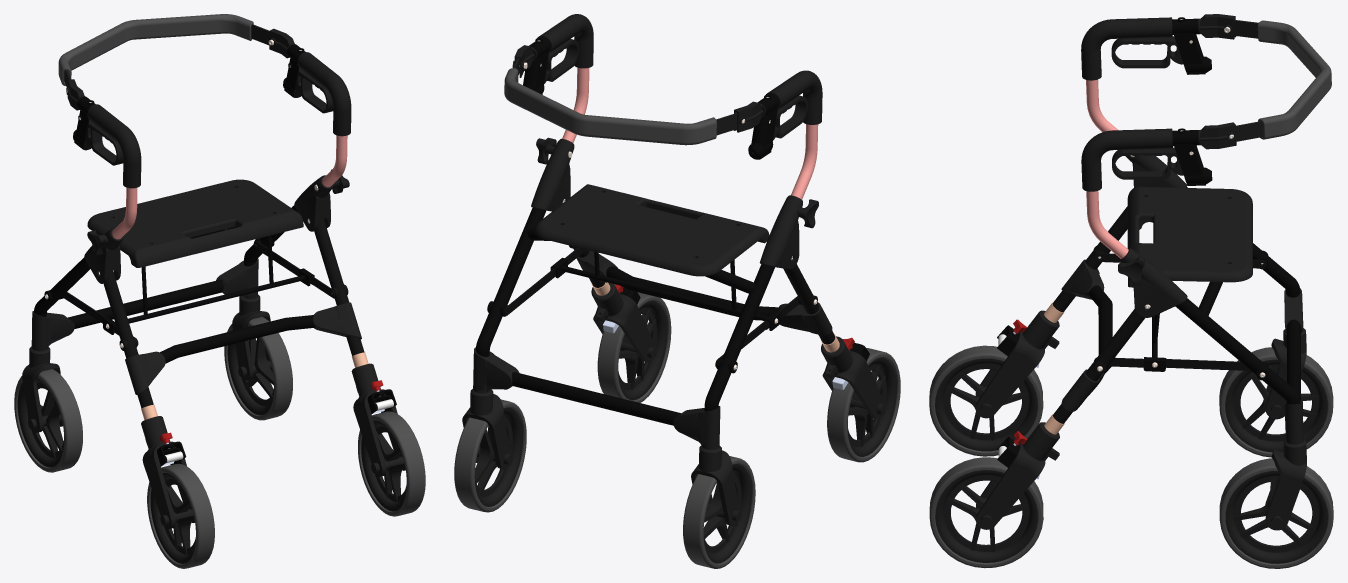
File: Evolution Piper Tall Walker Assembly.obj
3 renders of one model, left to right at view 1: azimuth 30°, elevation 25°; view 2: azimuth 150°, elevation 25°; view 3: azimuth 270°, elevation 25°, orthographic. The views are drawn at different scales.
Visible parts, largest first — view 1: Walker_Seat-1-solid1, Walker_Handlebar-1-solid6, Walker_Double_3_Star_Spoke_Onshape-2-solid1, Walker_Double_3_Star_Spoke_Onshape-1-solid1, Walker_Double_3_Star_Spoke_Onshape-4-solid1, Walker_Double_3_Star_Spoke_Onshape-4-solid2, Walker_Double_3_Star_Spoke_Onshape-3-solid1, Walker_Double_3_Star_Spoke_Onshape-1-solid2, Walker_Double_3_Star_Spoke_Onshape-2-solid2, Walker_Double_3_Star_Spoke_Onshape-3-solid2, Walker_Rear_Central_Main_Tubing-1-solid1, Walker_Rear_Wheel_Mount-2-solid1 (+22 smaller); view 2: Walker_Seat-1-solid1, Walker_Front_Tubing-1-solid1, Walker_Handlebar-1-solid6, Walker_Double_3_Star_Spoke_Onshape-1-solid2, Walker_Double_3_Star_Spoke_Onshape-2-solid2, Walker_Double_3_Star_Spoke_Onshape-3-solid2, Walker_Double_3_Star_Spoke_Onshape-3-solid1, Walker_Double_3_Star_Spoke_Onshape-4-solid1, Walker_Double_3_Star_Spoke_Onshape-4-solid2, Walker_Front_Straight_Tubing-1-solid1, Walker_Double_3_Star_Spoke_Onshape-1-solid1, Walker_Rear_Wheel_Mount-1-solid1 (+21 smaller); view 3: Walker_Seat-1-solid1, Walker_Double_3_Star_Spoke_Onshape-3-solid2, Walker_Double_3_Star_Spoke_Onshape-2-solid2, Walker_Double_3_Star_Spoke_Onshape-1-solid2, Walker_Double_3_Star_Spoke_Onshape-4-solid2, Walker_Front_Tubing-1-solid1, Walker_Handlebar-1-solid6, Walker_Rear_Wheel_Mount-1-solid1, Walker_Rear_Wheel_Mount-2-solid1, Walker_Handlebar-1-solid3, Walker_Handlebar-1-solid1, Walker_Double_3_Star_Spoke_Onshape-2-solid1 (+25 smaller).
Part boxes in pixels (box(x1,y1,x2,y2)): Walker_Seat-1-solid1: box(87, 179, 303, 267); Walker_Handlebar-1-solid6: box(58, 14, 253, 85); Walker_Double_3_Star_Spoke_Onshape-2-solid1: box(358, 411, 425, 516); Walker_Double_3_Star_Spoke_Onshape-1-solid1: box(147, 464, 214, 568); Walker_Double_3_Star_Spoke_Onshape-4-solid1: box(14, 369, 82, 472); Walker_Double_3_Star_Spoke_Onshape-4-solid2: box(17, 378, 64, 467); Walker_Double_3_Star_Spoke_Onshape-3-solid1: box(224, 317, 292, 420); Walker_Double_3_Star_Spoke_Onshape-1-solid2: box(150, 472, 196, 563); Walker_Double_3_Star_Spoke_Onshape-2-solid2: box(361, 420, 406, 511); Walker_Double_3_Star_Spoke_Onshape-3-solid2: box(227, 326, 274, 415); Walker_Rear_Central_Main_Tubing-1-solid1: box(160, 315, 315, 363); Walker_Rear_Wheel_Mount-2-solid1: box(351, 363, 405, 476); Walker_Seat-1-solid1: box(534, 184, 769, 276); Walker_Front_Tubing-1-solid1: box(475, 151, 774, 411); Walker_Handlebar-1-solid6: box(504, 68, 716, 145); Walker_Double_3_Star_Spoke_Onshape-1-solid2: box(847, 357, 896, 456); Walker_Double_3_Star_Spoke_Onshape-2-solid2: box(618, 300, 667, 400); Walker_Double_3_Star_Spoke_Onshape-3-solid2: box(474, 407, 522, 506); Walker_Double_3_Star_Spoke_Onshape-3-solid1: box(454, 399, 526, 512); Walker_Double_3_Star_Spoke_Onshape-4-solid1: box(683, 456, 755, 568); Walker_Double_3_Star_Spoke_Onshape-4-solid2: box(703, 464, 751, 563); Walker_Front_Straight_Tubing-1-solid1: box(512, 372, 680, 425); Walker_Double_3_Star_Spoke_Onshape-1-solid1: box(827, 348, 900, 462); Walker_Rear_Wheel_Mount-1-solid1: box(821, 336, 884, 419); Walker_Seat-1-solid1: box(1127, 186, 1252, 287); Walker_Double_3_Star_Spoke_Onshape-3-solid2: box(1225, 471, 1327, 563); Walker_Double_3_Star_Spoke_Onshape-2-solid2: box(935, 470, 1037, 562); Walker_Double_3_Star_Spoke_Onshape-1-solid2: box(935, 358, 1037, 451); Walker_Double_3_Star_Spoke_Onshape-4-solid2: box(1225, 360, 1327, 452); Walker_Front_Tubing-1-solid1: box(1130, 155, 1300, 404); Walker_Handlebar-1-solid6: box(1257, 20, 1331, 139); Walker_Rear_Wheel_Mount-1-solid1: box(975, 310, 1059, 418); Walker_Rear_Wheel_Mount-2-solid1: box(976, 422, 1059, 529); Walker_Handlebar-1-solid3: box(1081, 17, 1172, 80); Walker_Handlebar-1-solid1: box(1081, 128, 1172, 191); Walker_Double_3_Star_Spoke_Onshape-2-solid1: box(929, 457, 1043, 568).
Bounding box in the file's own units: 566 × 876 × 728.
